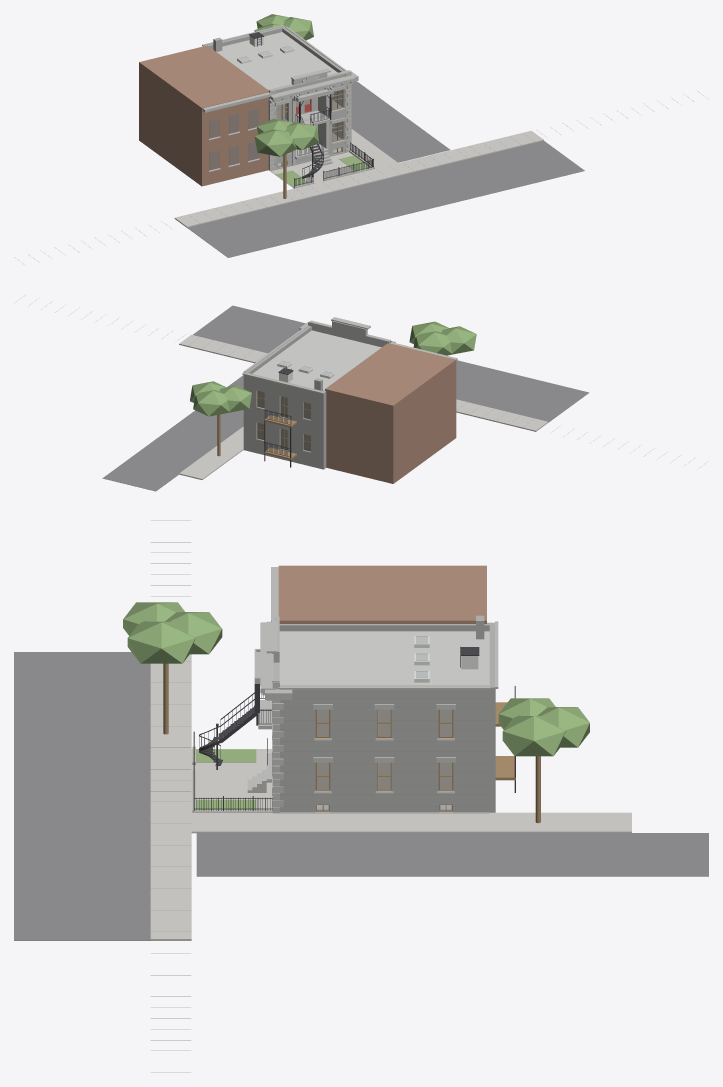
Rendered from clay-plateau-stair-triplex-clay-v001.glb.
The picture shows the model from 3 angles, top to bottom: view 1: azimuth 30°, elevation 25°; view 2: azimuth 150°, elevation 25°; view 3: azimuth 270°, elevation 25°; orthographic projection. The views are drawn at different scales.
Parts seen in each view (by area): view 1: CLAY_ASPHALT, CLAY_NEIGHBOUR, CLAY_CONCRETE, CLAY_ROOF, CLAY_STONE, CLAY_PLANTING, CLAY_WALL, CLAY_GLASS, CLAY_HARDWARE, CLAY_QUOIN, CLAY_BRICK, CLAY_LAWN (+1 smaller); view 2: CLAY_NEIGHBOUR, CLAY_ASPHALT, CLAY_BRICK, CLAY_ROOF, CLAY_CONCRETE, CLAY_PLANTING, CLAY_WALL, CLAY_GLASS, CLAY_STONE, CLAY_TRIM, CLAY_HARDWARE, CLAY_TIMBER (+1 smaller); view 3: CLAY_ASPHALT, CLAY_BRICK, CLAY_CONCRETE, CLAY_NEIGHBOUR, CLAY_ROOF, CLAY_PLANTING, CLAY_STONE, CLAY_JOINT, CLAY_HARDWARE, CLAY_GLASS, CLAY_QUOIN, CLAY_FLOOR (+4 smaller).
Part boxes in pixels (left/top/right/bottom): CLAY_ASPHALT: left=187, top=81, right=584, bottom=257; CLAY_NEIGHBOUR: left=139, top=45, right=268, bottom=186; CLAY_CONCRETE: left=174, top=129, right=543, bottom=227; CLAY_ROOF: left=212, top=32, right=337, bottom=89; CLAY_STONE: left=202, top=25, right=374, bottom=188; CLAY_PLANTING: left=254, top=14, right=319, bottom=156; CLAY_WALL: left=268, top=70, right=350, bottom=170; CLAY_GLASS: left=209, top=46, right=342, bottom=169; CLAY_HARDWARE: left=249, top=32, right=373, bottom=186; CLAY_QUOIN: left=269, top=71, right=351, bottom=171; CLAY_BRICK: left=204, top=26, right=344, bottom=138; CLAY_LAWN: left=276, top=155, right=370, bottom=186; CLAY_NEIGHBOUR: left=325, top=343, right=456, bottom=483; CLAY_ASPHALT: left=102, top=305, right=589, bottom=491; CLAY_BRICK: left=243, top=326, right=326, bottom=469; CLAY_ROOF: left=252, top=330, right=381, bottom=390; CLAY_CONCRETE: left=179, top=334, right=548, bottom=479; CLAY_PLANTING: left=190, top=321, right=476, bottom=416; CLAY_WALL: left=308, top=321, right=390, bottom=347; CLAY_GLASS: left=257, top=360, right=332, bottom=451; CLAY_STONE: left=242, top=317, right=457, bottom=394; CLAY_TRIM: left=257, top=391, right=310, bottom=451; CLAY_HARDWARE: left=264, top=367, right=293, bottom=467; CLAY_TIMBER: left=217, top=414, right=296, bottom=459; CLAY_ASPHALT: left=14, top=652, right=708, bottom=940; CLAY_BRICK: left=279, top=615, right=495, bottom=812; CLAY_CONCRETE: left=150, top=654, right=631, bottom=940; CLAY_NEIGHBOUR: left=278, top=565, right=486, bottom=623; CLAY_ROOF: left=279, top=631, right=489, bottom=685; CLAY_PLANTING: left=123, top=602, right=589, bottom=756; CLAY_STONE: left=192, top=567, right=498, bottom=812; CLAY_JOINT: left=151, top=520, right=488, bottom=1072; CLAY_HARDWARE: left=193, top=646, right=515, bottom=810; CLAY_GLASS: left=317, top=636, right=451, bottom=809; CLAY_QUOIN: left=272, top=616, right=455, bottom=813; CLAY_FLOOR: left=317, top=709, right=451, bottom=788.
Bounding box in the file's own units: 76.52 × 9.41 × 40.7.
